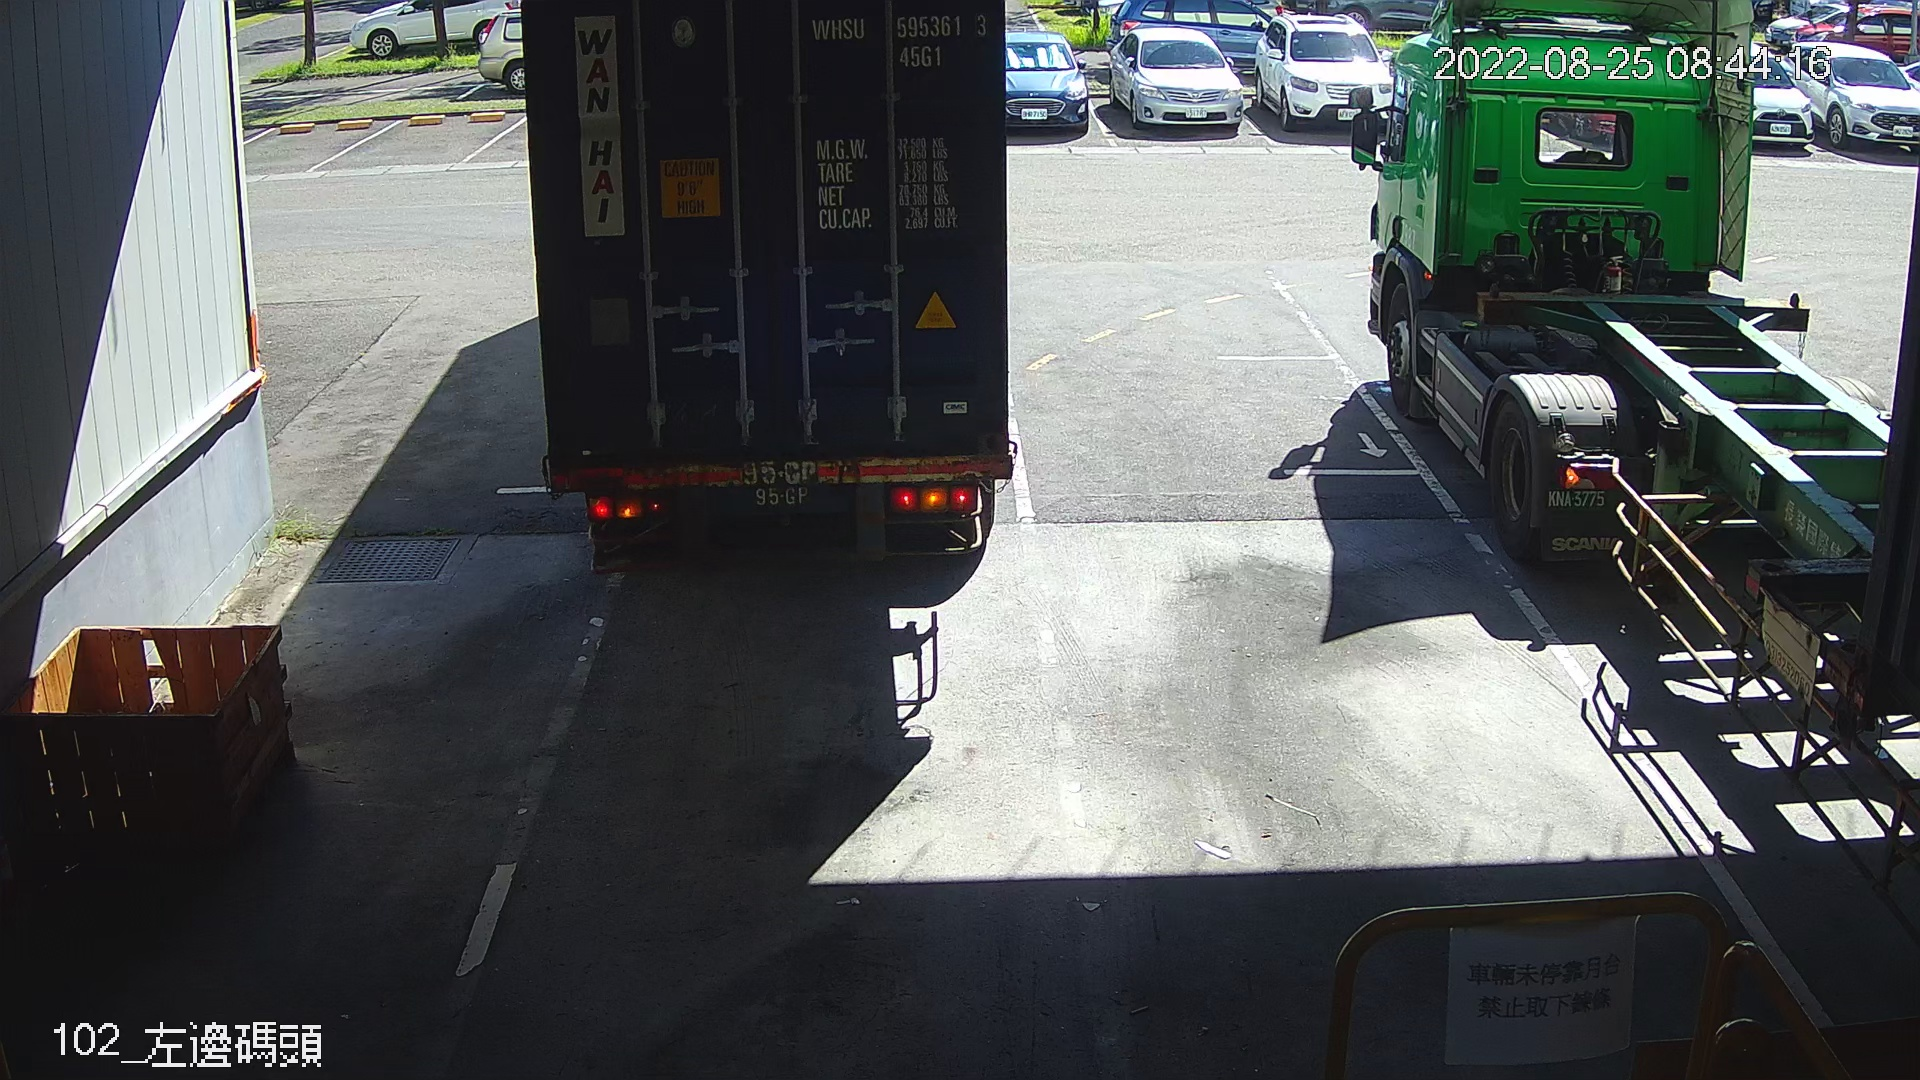container: (804, 4, 997, 76)
